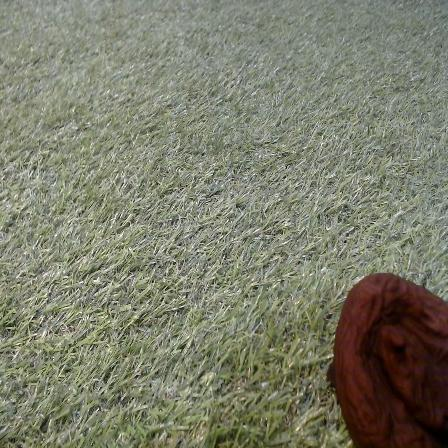dog-poop: (332, 271, 448, 438)
